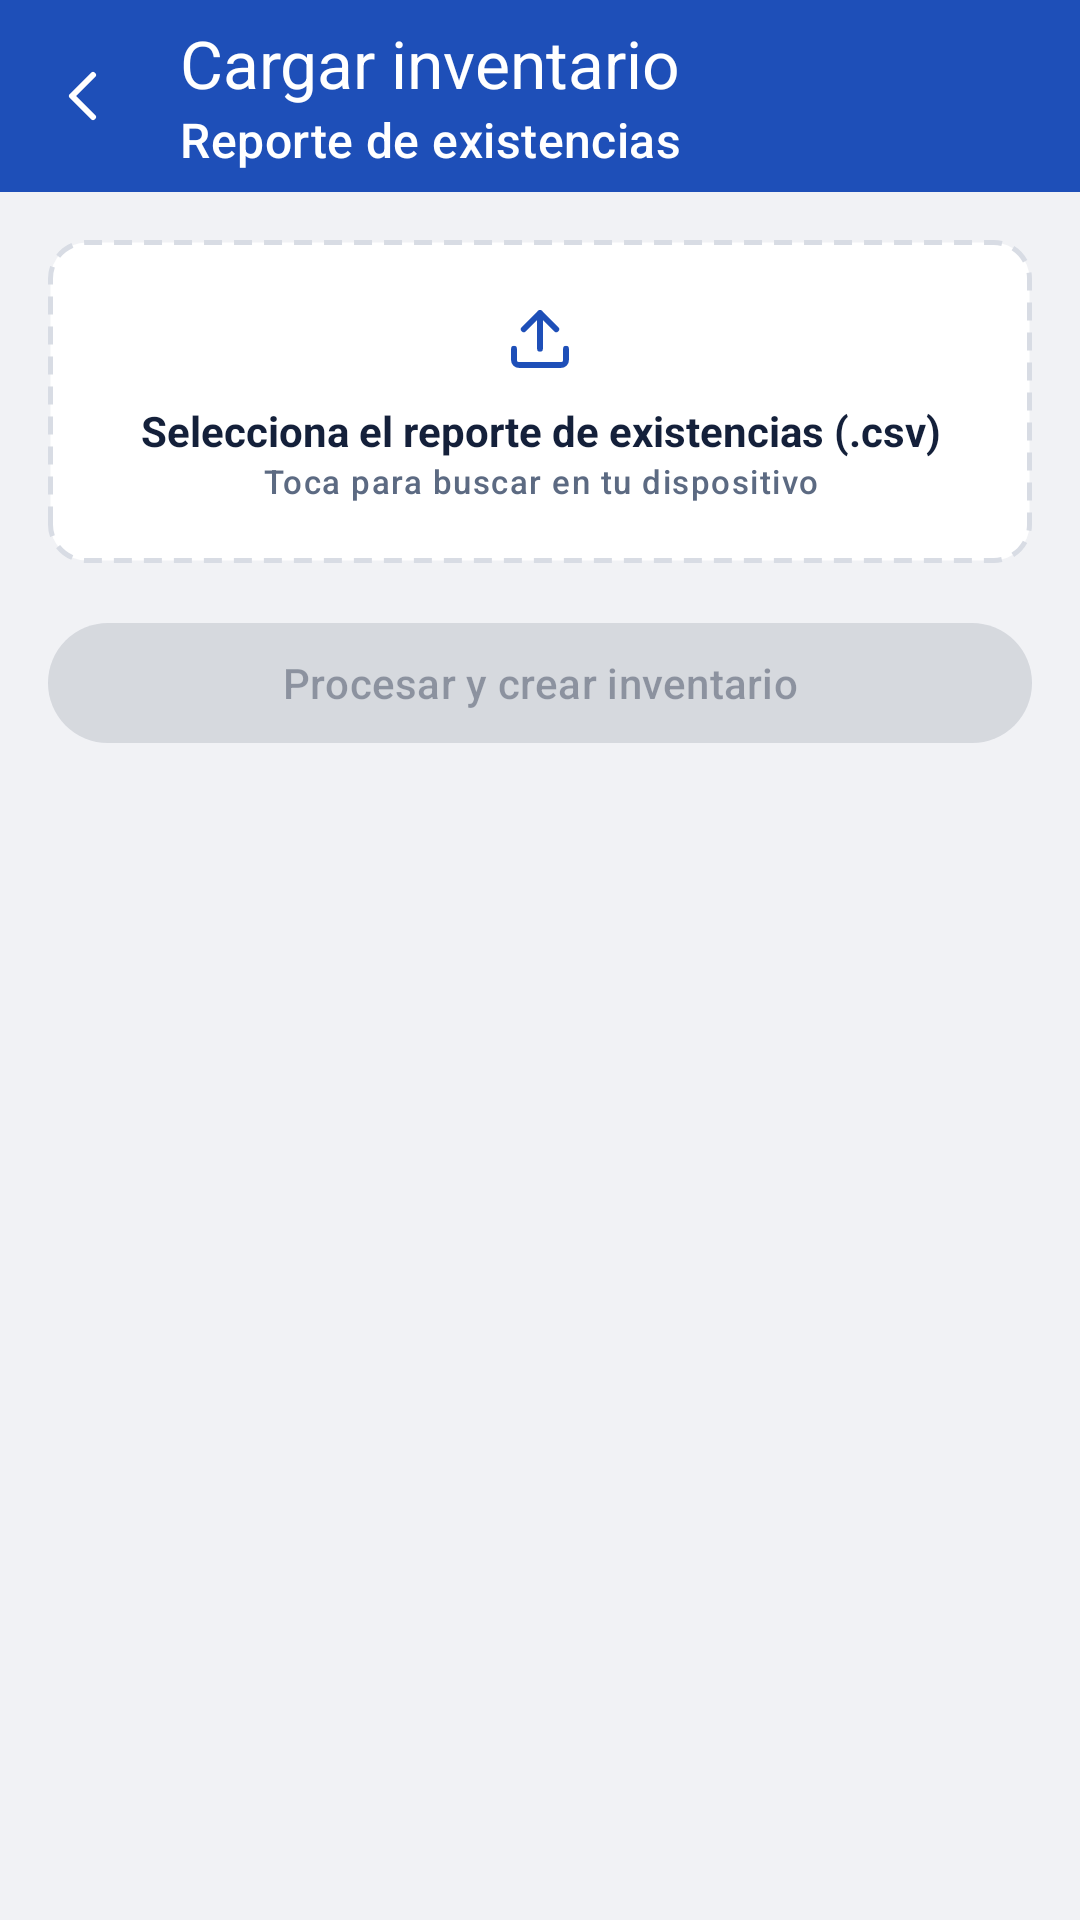

Icon bounding boxes for this 1080×1920 phone screenshot, format {"left": x1, "top": y1, "right": x2, "bottom": y2}:
upload: {"left": 511, "top": 310, "right": 569, "bottom": 368}
